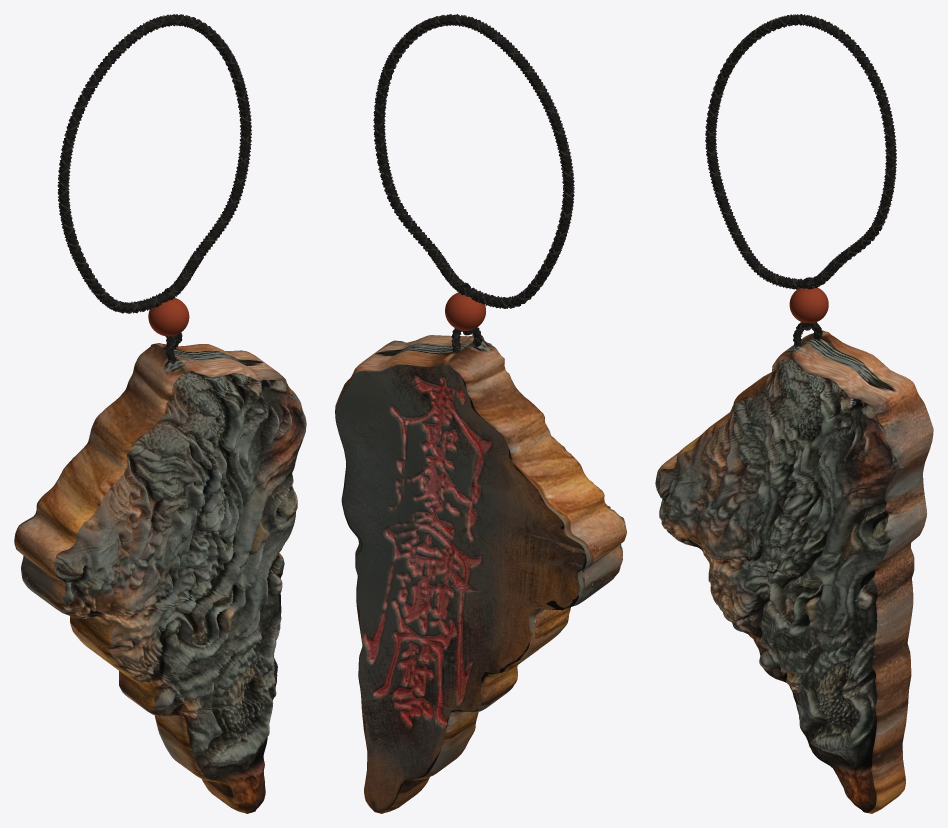
File: xuanshou.glb
3 renders of one model, left to right at view 1: azimuth 30°, elevation 25°; view 2: azimuth 150°, elevation 25°; view 3: azimuth 330°, elevation 25°, orthographic. The views are drawn at different scales.
Visible parts, largest first — view 1: 玄兽 · 兽首浮雕与不规则木胎, 黑色圆编绳 · 三股回环, 赤色圆珠; view 2: 玄兽 · 兽首浮雕与不规则木胎, 黑色圆编绳 · 三股回环, 赤色圆珠; view 3: 玄兽 · 兽首浮雕与不规则木胎, 黑色圆编绳 · 三股回环, 赤色圆珠.
Part boxes in pixels (x1,y1,x2,y2): 玄兽 · 兽首浮雕与不规则木胎: [14, 343, 306, 813]; 黑色圆编绳 · 三股回环: [57, 14, 251, 313]; 赤色圆珠: [148, 298, 189, 336]; 玄兽 · 兽首浮雕与不规则木胎: [335, 335, 626, 813]; 黑色圆编绳 · 三股回环: [373, 14, 574, 308]; 赤色圆珠: [445, 292, 485, 330]; 玄兽 · 兽首浮雕与不规则木胎: [655, 330, 933, 813]; 黑色圆编绳 · 三股回环: [705, 14, 896, 289]; 赤色圆珠: [789, 287, 828, 323].
Bounding box in the file's own units: 4.93 × 14.73 × 1.84.
Materials: 7 (4 with a texture image).
